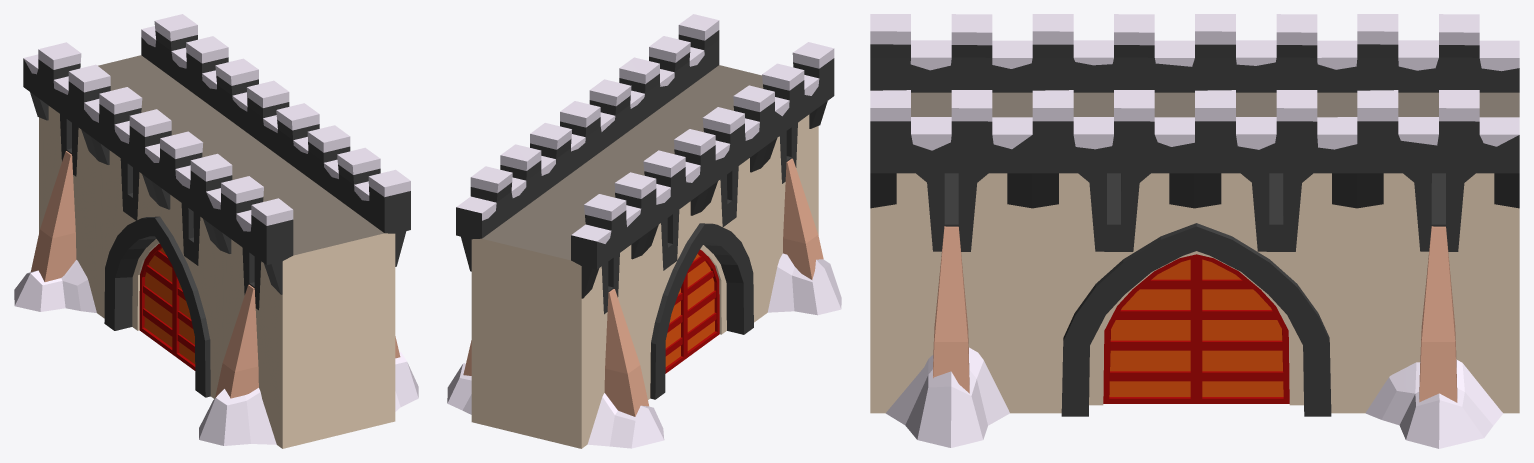
Rendered from winter_castle_wall2.glb.
3 renders of one model, left to right at view 1: azimuth 30°, elevation 25°; view 2: azimuth 150°, elevation 25°; view 3: azimuth 270°, elevation 25°, orthographic. The views are drawn at different scales.
Visible parts, largest first — view 1: Wall2_Medieval_0; view 2: Wall2_Medieval_0; view 3: Wall2_Medieval_0.
Part boxes in pixels (x1,y1,x2,y2): Wall2_Medieval_0: (14, 14, 418, 448); Wall2_Medieval_0: (447, 14, 841, 448); Wall2_Medieval_0: (870, 14, 1519, 448).
Size of the model in its own units: 4.22 by 4.29 by 8.
Materials: 1 (1 with a texture image).
